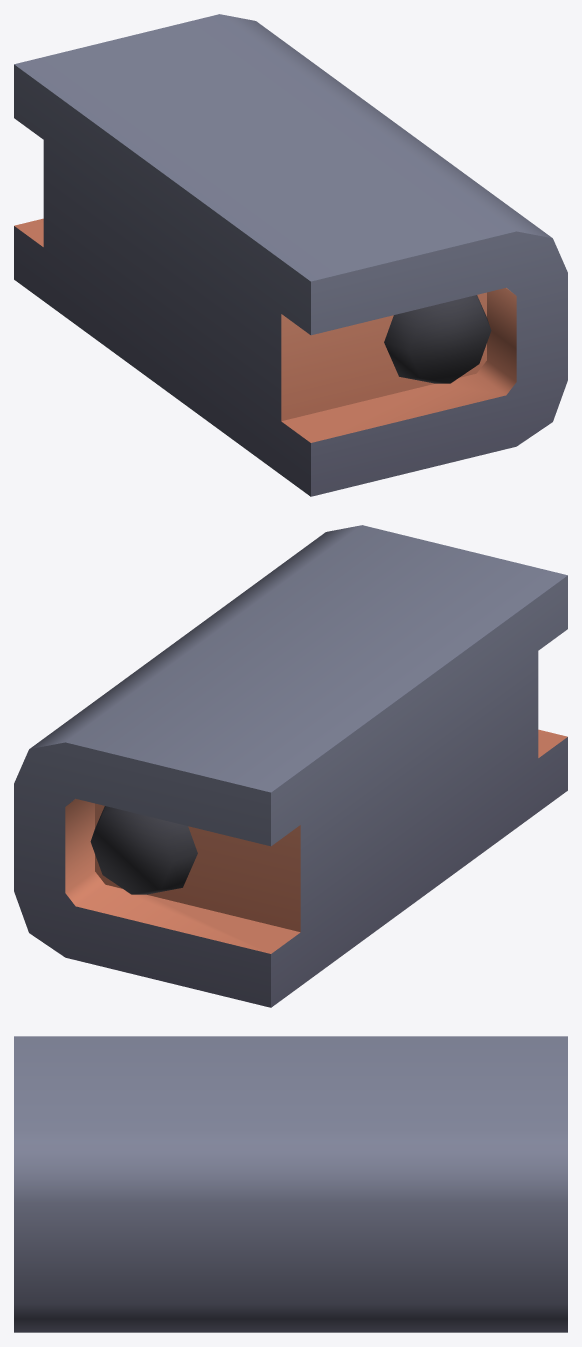
Rendered from conveyor-long-part-end.obj.
3 renders of one model, top to bottom at view 1: azimuth 30°, elevation 25°; view 2: azimuth 150°, elevation 25°; view 3: azimuth 270°, elevation 25°, orthographic. The views are drawn at different scales.
Visible parts, largest first — view 1: conveyor-long-part-end; view 2: conveyor-long-part-end; view 3: conveyor-long-part-end.
Part boxes in pixels (<box>): conveyor-long-part-end: <box>14,14,567,496</box>; conveyor-long-part-end: <box>14,525,567,1007</box>; conveyor-long-part-end: <box>14,1036,567,1332</box>.
Size of the model in its own units: 0.5 by 0.4 by 1.
